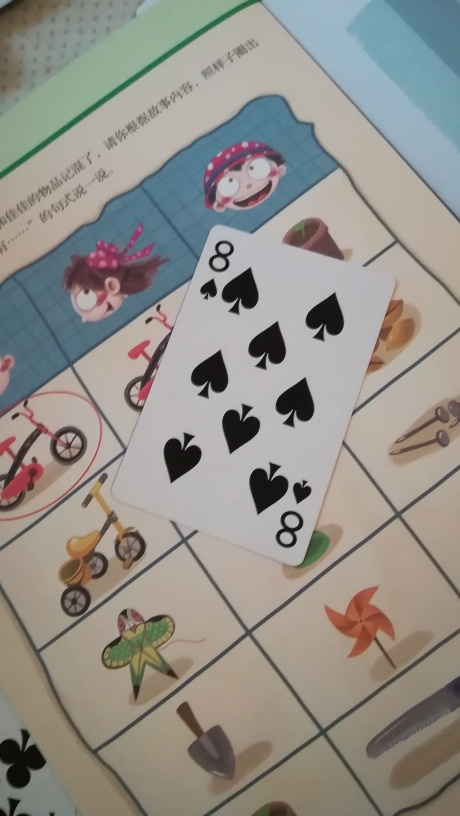ht 8: (109, 221, 400, 572)
